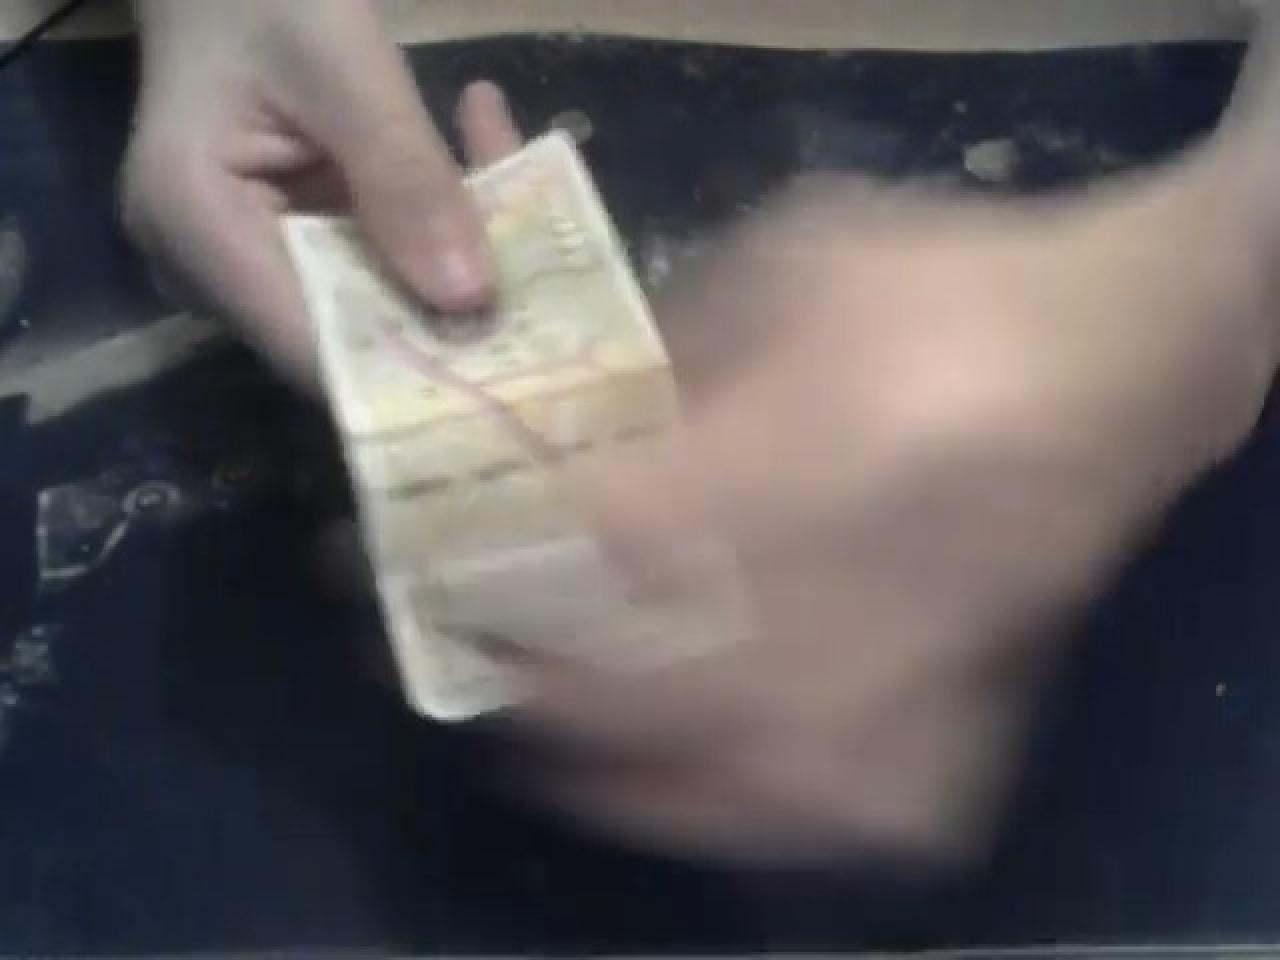10leva: (118, 0, 1280, 882)
